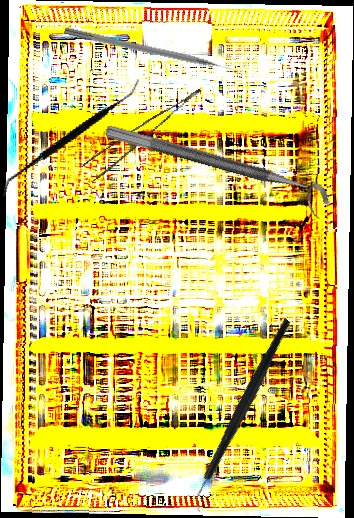Chopper: (140, 315, 347, 517)
Fixation Ring: (98, 123, 335, 221)
Pusher: (63, 26, 244, 78)
Spatula Surgical: (0, 48, 142, 228)
Tissue Forceps: (77, 88, 214, 183)
